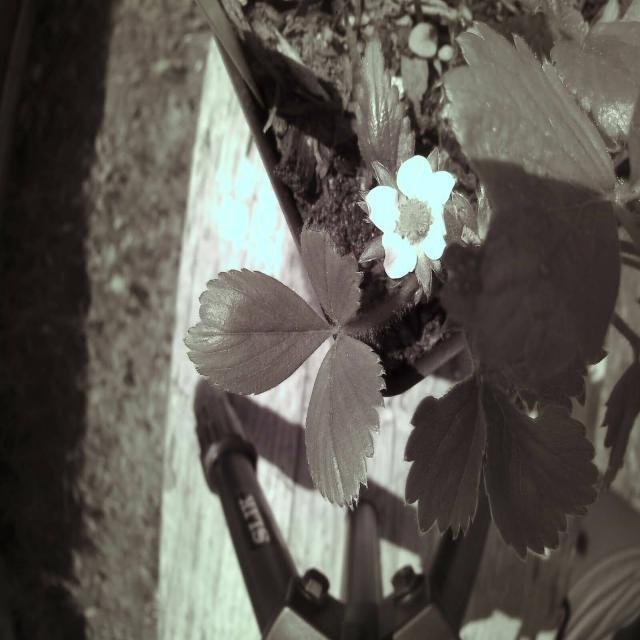flower: (362, 150, 470, 284)
